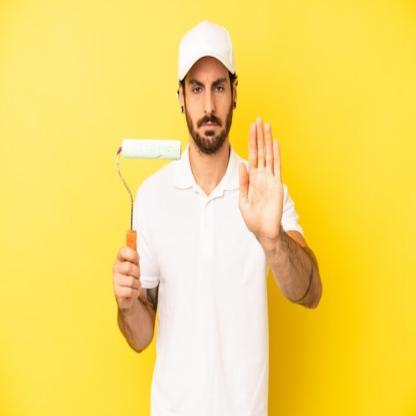stop: (238, 113, 288, 241)
